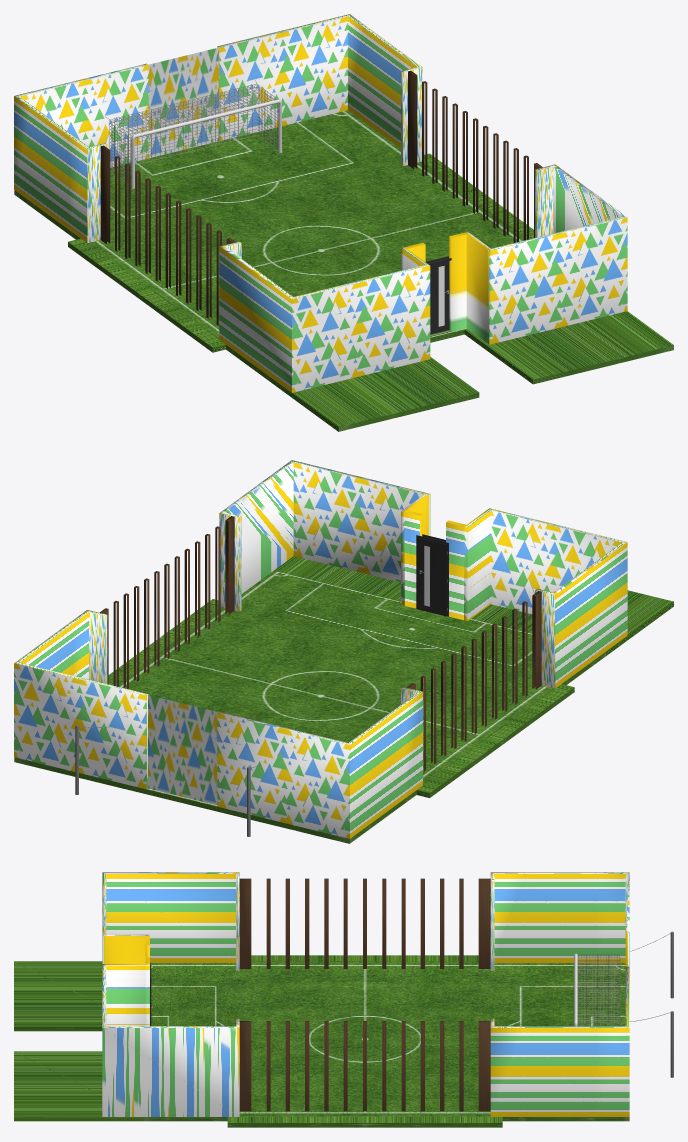
File: a-block-stadion.glb
3 renders of one model, top to bottom at view 1: azimuth 30°, elevation 25°; view 2: azimuth 150°, elevation 25°; view 3: azimuth 270°, elevation 25°, orthographic. The views are drawn at different scales.
Parts seen in each view (by area): view 1: Plane, Box111, Object007.001, ram; view 2: Plane, Box111, Object007.001, ram; view 3: Box111, Plane, Object007.001, ram.
Boxes of the visible parts, x1,y1,x2,y2 form: Plane: (14,14,627,392); Box111: (14,110,673,431); Object007.001: (100,70,542,325); ram: (105,80,451,335); Plane: (14,460,627,838); Box111: (14,556,673,843); Object007.001: (99,516,541,771); ram: (75,534,448,836); Box111: (14,955,629,1127); Plane: (102,872,629,1116); Object007.001: (239,878,490,1111); ram: (150,931,673,1077).
Bounding box in the file's own units: 18 × 4.69 × 29.95.
Materials: 6 (6 with a texture image).
